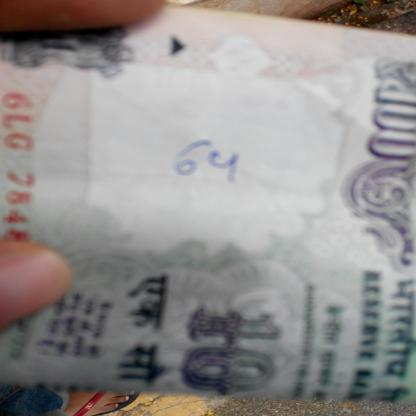Old100Front: (0, 4, 416, 402)
